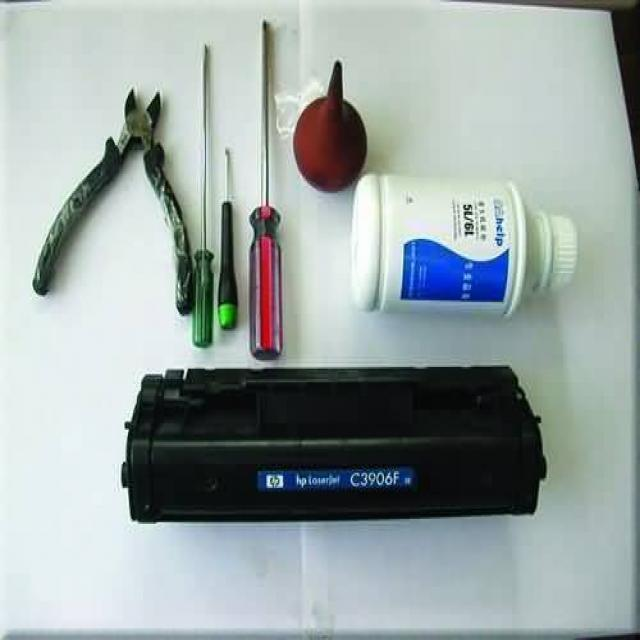pliers: (27, 70, 195, 324)
screwdriver: (245, 9, 285, 366), (189, 36, 214, 354), (214, 144, 242, 336)
